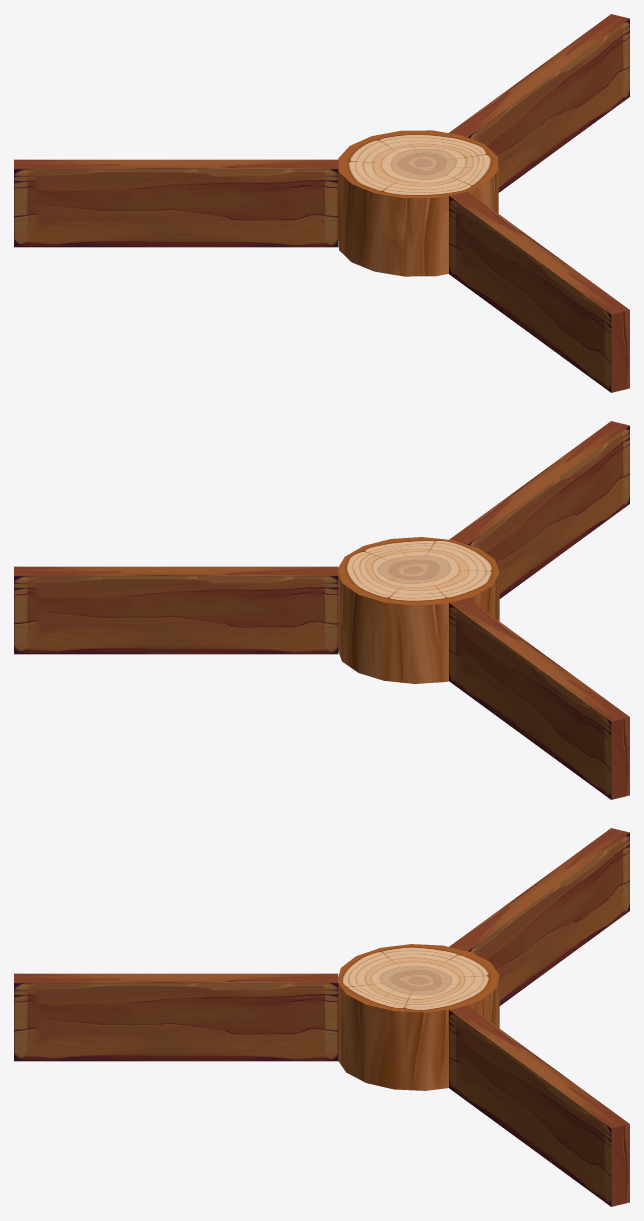
Rendered from three_blade_wood_02.fbx.
3 renders of one model, top to bottom at view 1: azimuth 30°, elevation 25°; view 2: azimuth 150°, elevation 25°; view 3: azimuth 270°, elevation 25°, orthographic.
Parts seen in each view (by area): view 1: three_blade_wood_02; view 2: three_blade_wood_02; view 3: three_blade_wood_02.
Boxes of the visible parts, left/top/right/bottom form: three_blade_wood_02: left=14, top=14, right=629, bottom=392; three_blade_wood_02: left=14, top=421, right=629, bottom=799; three_blade_wood_02: left=14, top=828, right=629, bottom=1206.
Size of the model in its own units: 329 by 40 by 285.
